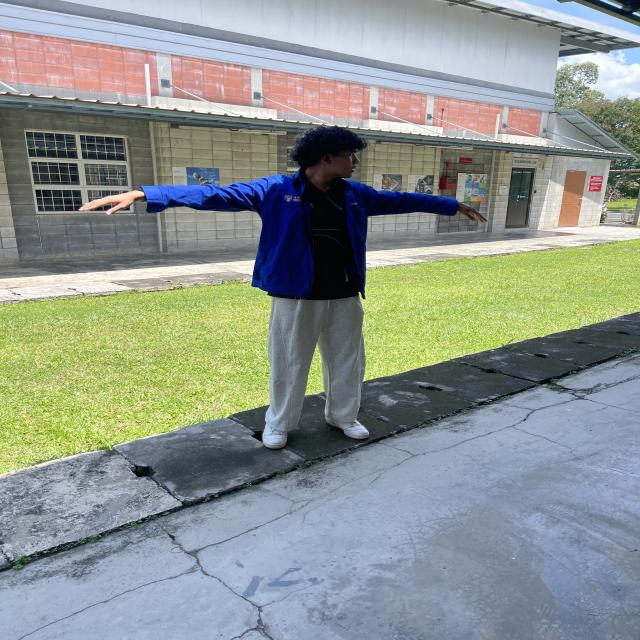person_with_labcoat: (80, 126, 485, 449)
